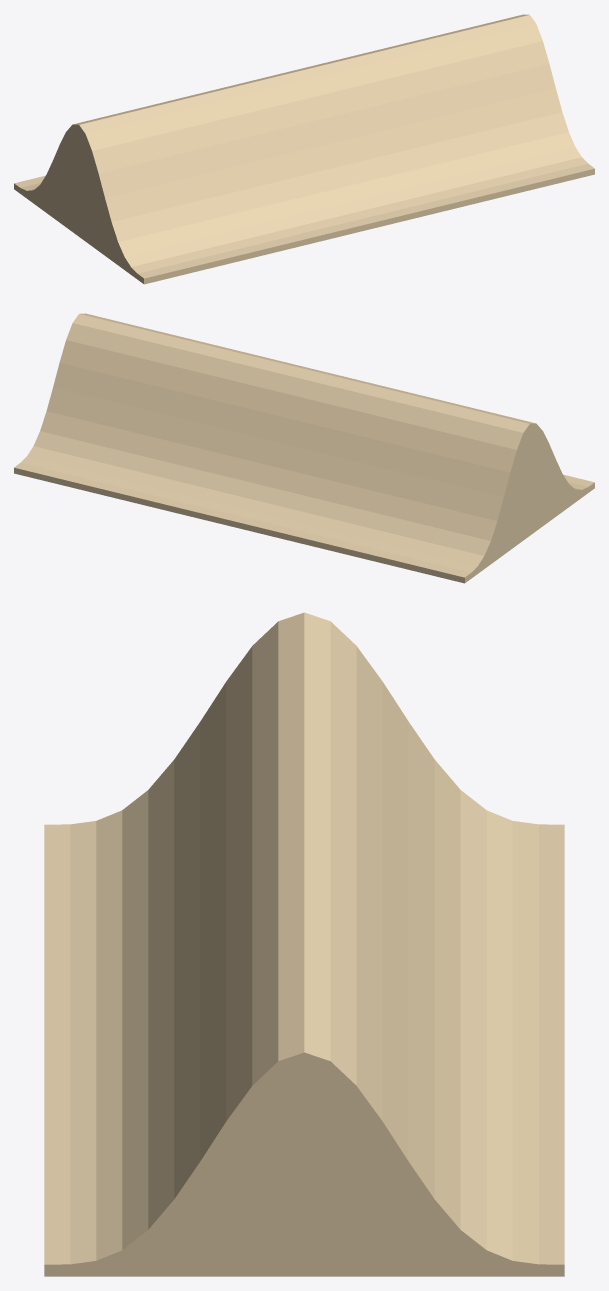
Rendered from desert-canyons-and-oases-transverse-dune-tile-da431862__20951.glb.
3 renders of one model, top to bottom at view 1: azimuth 30°, elevation 25°; view 2: azimuth 150°, elevation 25°; view 3: azimuth 270°, elevation 25°, orthographic. The views are drawn at different scales.
Parts seen in each view (by area): view 1: transverse-dune-tile; view 2: transverse-dune-tile; view 3: transverse-dune-tile.
Part boxes in pixels (x1=…): transverse-dune-tile: x1=14, y1=14, x2=594, y2=284; transverse-dune-tile: x1=14, y1=313, x2=594, y2=583; transverse-dune-tile: x1=44, y1=612, x2=564, y2=1276.
Size of the model in its own units: 8 by 1.9 by 4.
